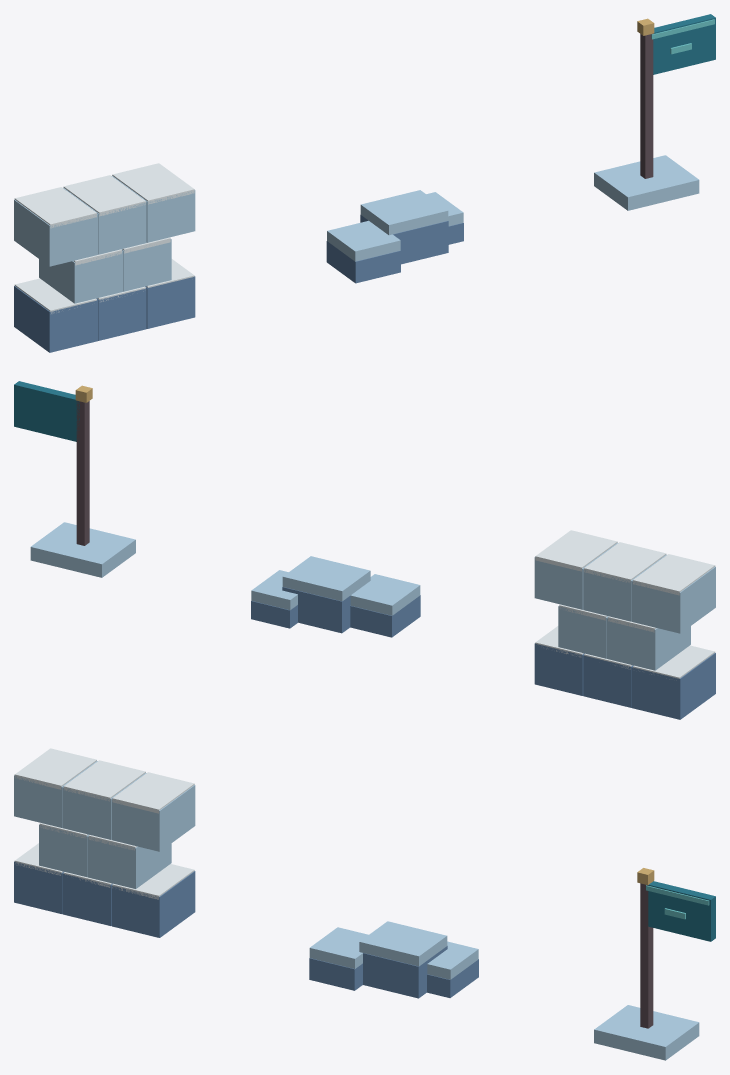
File: sne-snow-match-model.obj
The picture shows the model from 3 angles, top to bottom: view 1: azimuth 30°, elevation 25°; view 2: azimuth 150°, elevation 25°; view 3: azimuth 330°, elevation 25°; orthographic projection.
Visible parts, largest first — view 1: SnowMatchProps; view 2: SnowMatchProps; view 3: SnowMatchProps.
Part boxes in pixels (<box>): SnowMatchProps: <box>14,14,715,352</box>; SnowMatchProps: <box>14,381,715,719</box>; SnowMatchProps: <box>14,748,715,1060</box>.
Bounding box in the file's own units: 6.29 × 1.48 × 0.72.
